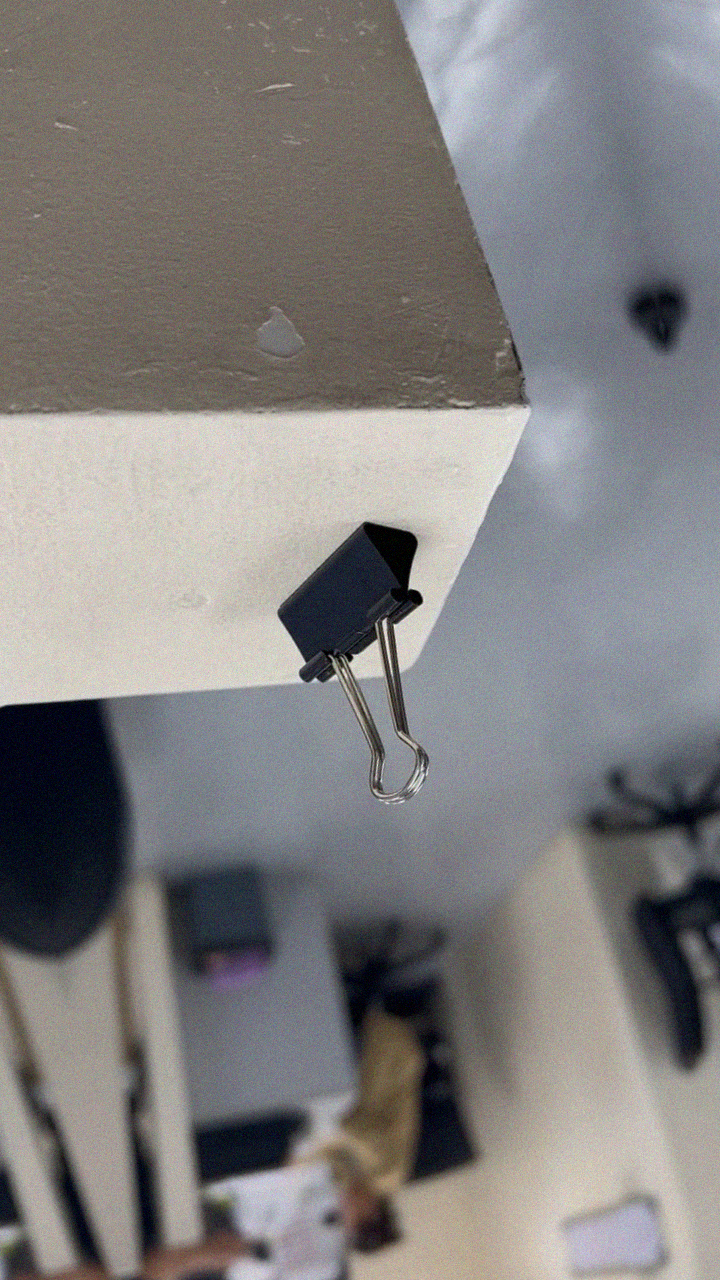kep_giay: (250, 506, 478, 824)
